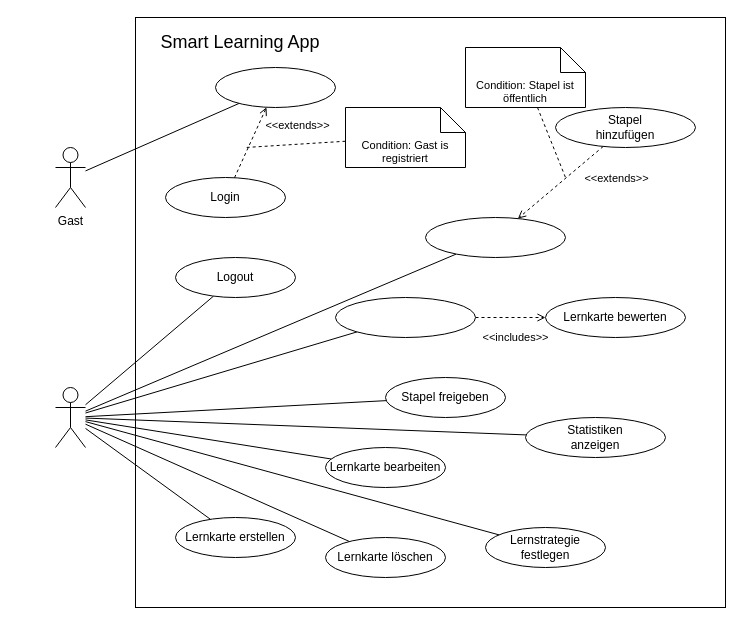
Some shapes in this 743 by 625 pixel diagram are drawn without their labels. Each missing label, with the centre of its shape:
"Eingeloggter Nutzer" goes at point (70, 417).
"Lernsession starten" goes at point (405, 317).
"Registrieren" goes at point (275, 87).
"Öffentliche Stapel anzeigen" goes at point (495, 237).
